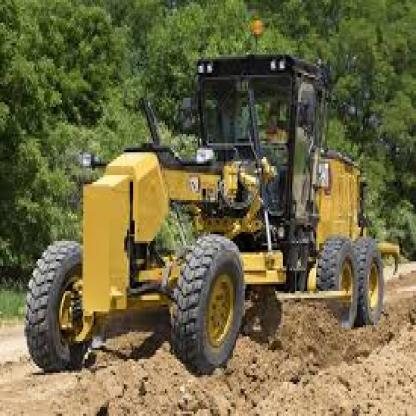bull_dozer/loader/grader: (20, 25, 399, 382)
